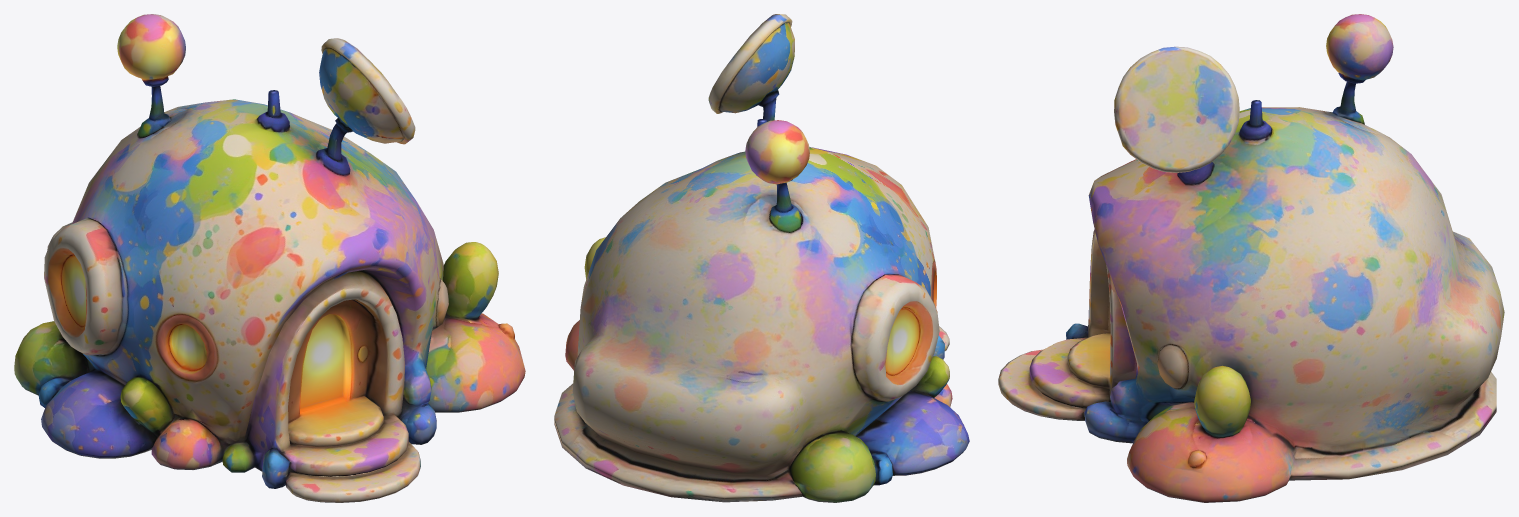
Rendered from alien_building_01.glb.
The picture shows the model from 3 angles, left to right: view 1: azimuth 30°, elevation 25°; view 2: azimuth 150°, elevation 25°; view 3: azimuth 270°, elevation 25°; orthographic projection. The views are drawn at different scales.
Parts seen in each view (by area): view 1: tripo_node_1d10282b-9866-46c8-934f-4231158cc595; view 2: tripo_node_1d10282b-9866-46c8-934f-4231158cc595; view 3: tripo_node_1d10282b-9866-46c8-934f-4231158cc595.
Part boxes in pixels (x1,y1,x2,y2): tripo_node_1d10282b-9866-46c8-934f-4231158cc595: [14, 14, 525, 502]; tripo_node_1d10282b-9866-46c8-934f-4231158cc595: [554, 14, 969, 502]; tripo_node_1d10282b-9866-46c8-934f-4231158cc595: [998, 14, 1504, 502].
Bounding box in the file's own units: 0.9692 × 0.7993 × 0.9995.
Materials: 1 (1 with a texture image).
